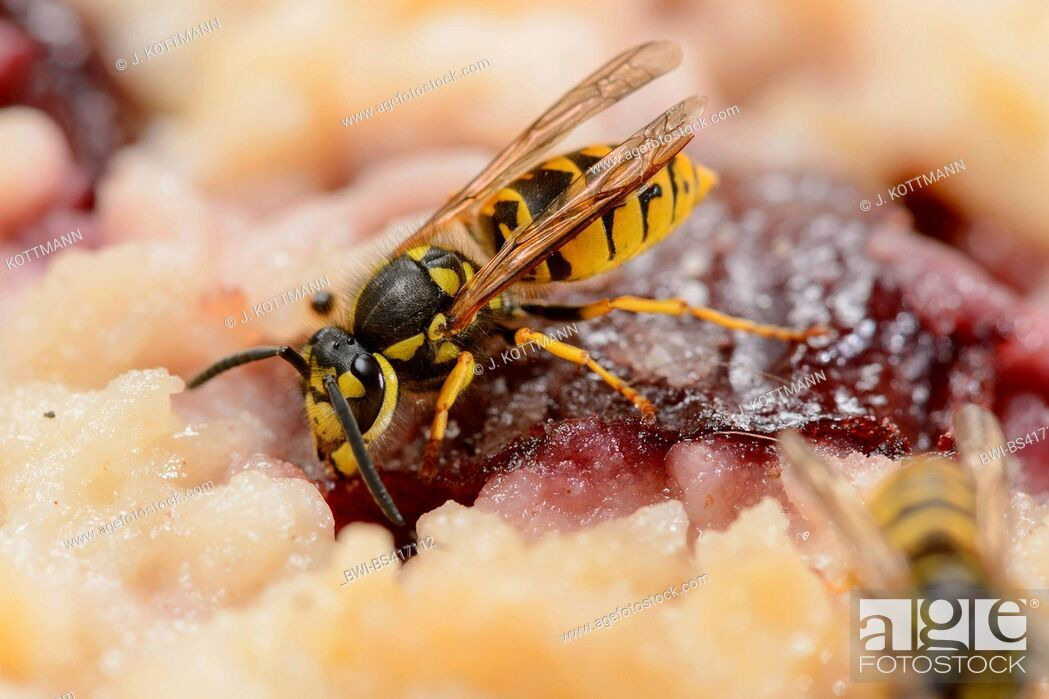chax: (161, 34, 827, 544)
